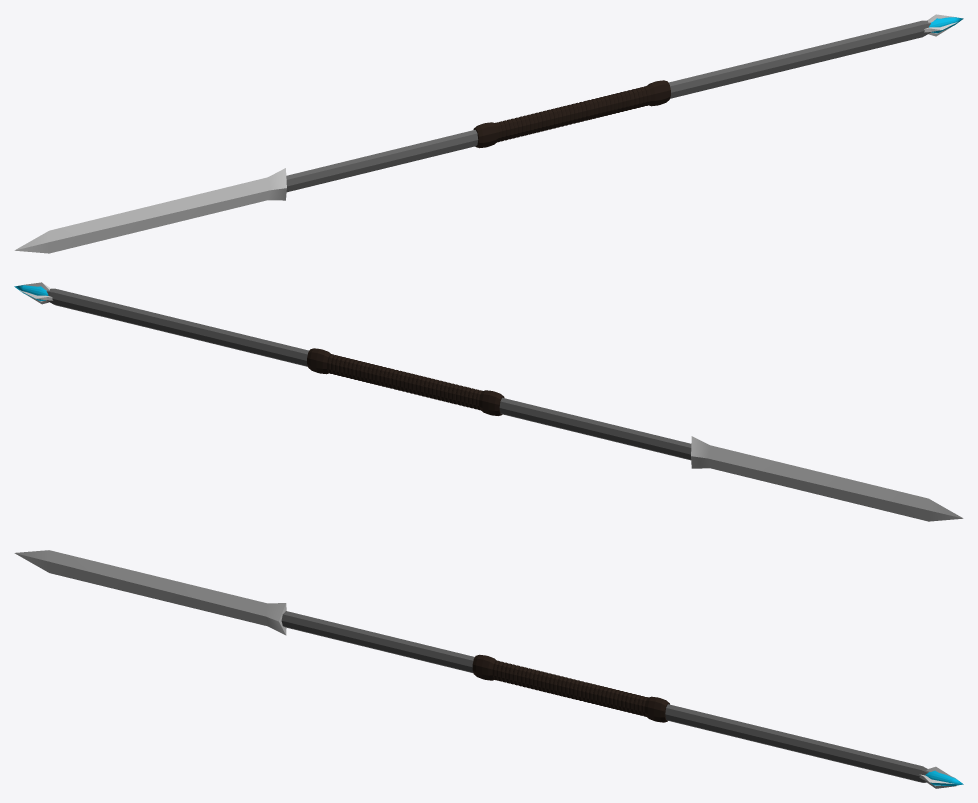
File: Spear.fbx
3 views of the same model, one above another, from view 1: azimuth 30°, elevation 25°; view 2: azimuth 150°, elevation 25°; view 3: azimuth 330°, elevation 25° (orthographic).
Parts seen in each view (by area): view 1: polySurface23; view 2: polySurface23; view 3: polySurface23.
Boxes of the visible parts, x1,y1,x2,y2 form: polySurface23: (14,14,963,253); polySurface23: (14,282,963,521); polySurface23: (14,550,963,788).
Size of the model in its own units: 16.23 by 0.5335 by 0.3782.
